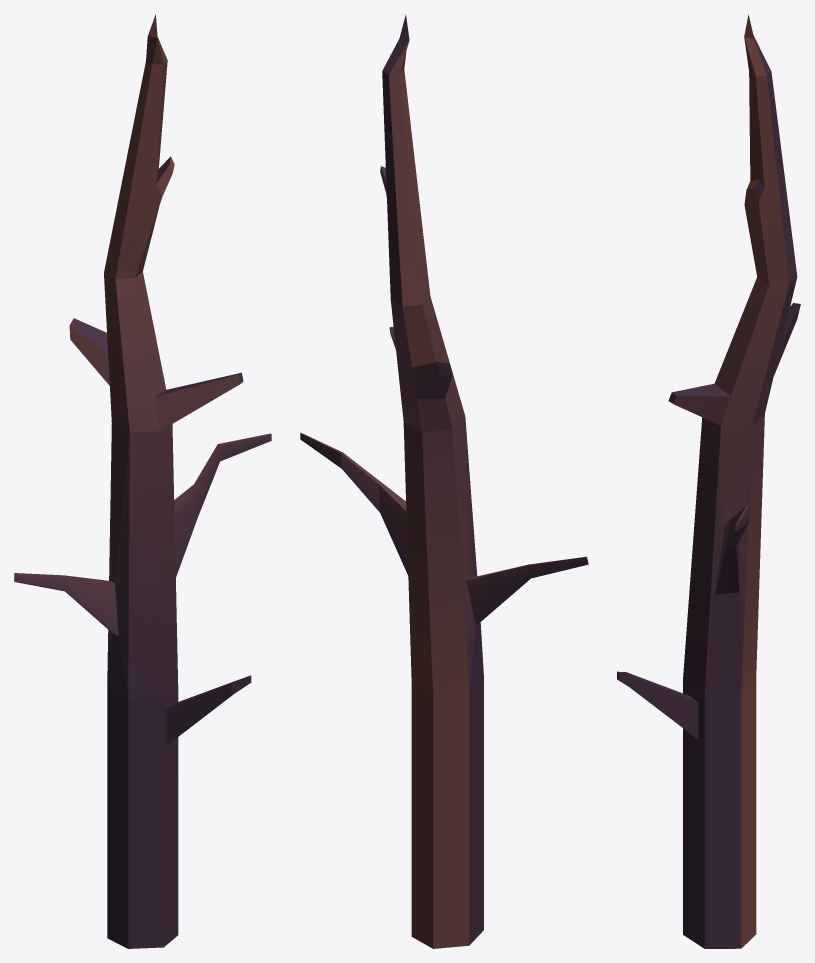
Rendered from PineDeadTree.fbx.
3 renders of one model, left to right at view 1: azimuth 30°, elevation 25°; view 2: azimuth 150°, elevation 25°; view 3: azimuth 270°, elevation 25°, orthographic. The views are drawn at different scales.
Visible parts, largest first — view 1: DeadTreeTrunk; view 2: DeadTreeTrunk; view 3: DeadTreeTrunk.
Part boxes in pixels (x1,y1,x2,y2): DeadTreeTrunk: [14, 14, 271, 948]; DeadTreeTrunk: [300, 14, 588, 948]; DeadTreeTrunk: [617, 14, 800, 948].
Bounding box in the file's own units: 146 × 470 × 83.7.
